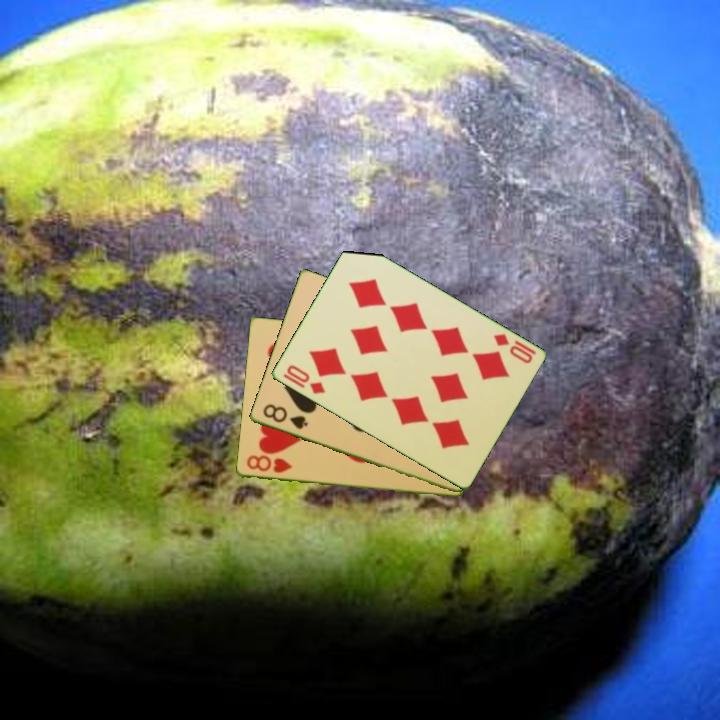10d: (489, 330, 535, 367), (282, 361, 328, 397)
8h: (243, 452, 295, 476)
8s: (259, 400, 311, 432)
